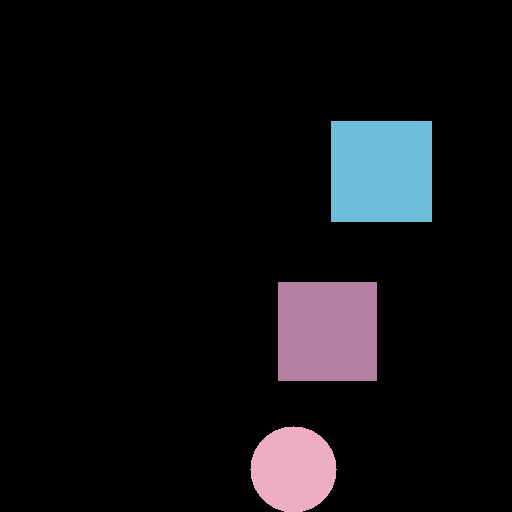circle: (251, 427, 335, 511)
square: (331, 121, 431, 221), (278, 282, 376, 380)
